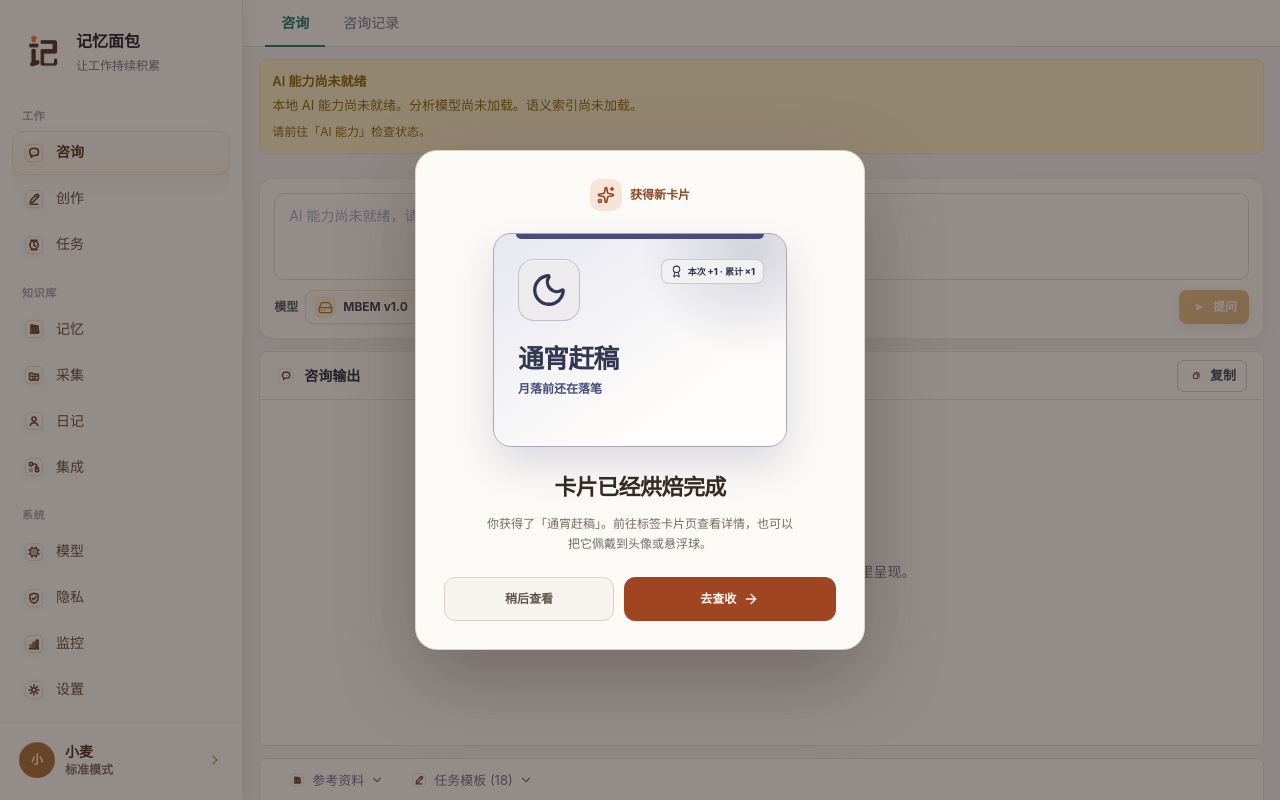
Test: App achievement celebration › celebrates on the main panel and opens the highlighted card collection
Expected: the dialog "卡片已经烘焙完成" is shown, x1=415 y1=150 x2=865 y2=650
Step 1. Click the button "去查收" → coordinates (730, 599), box x1=624 y1=577 x2=836 y2=621
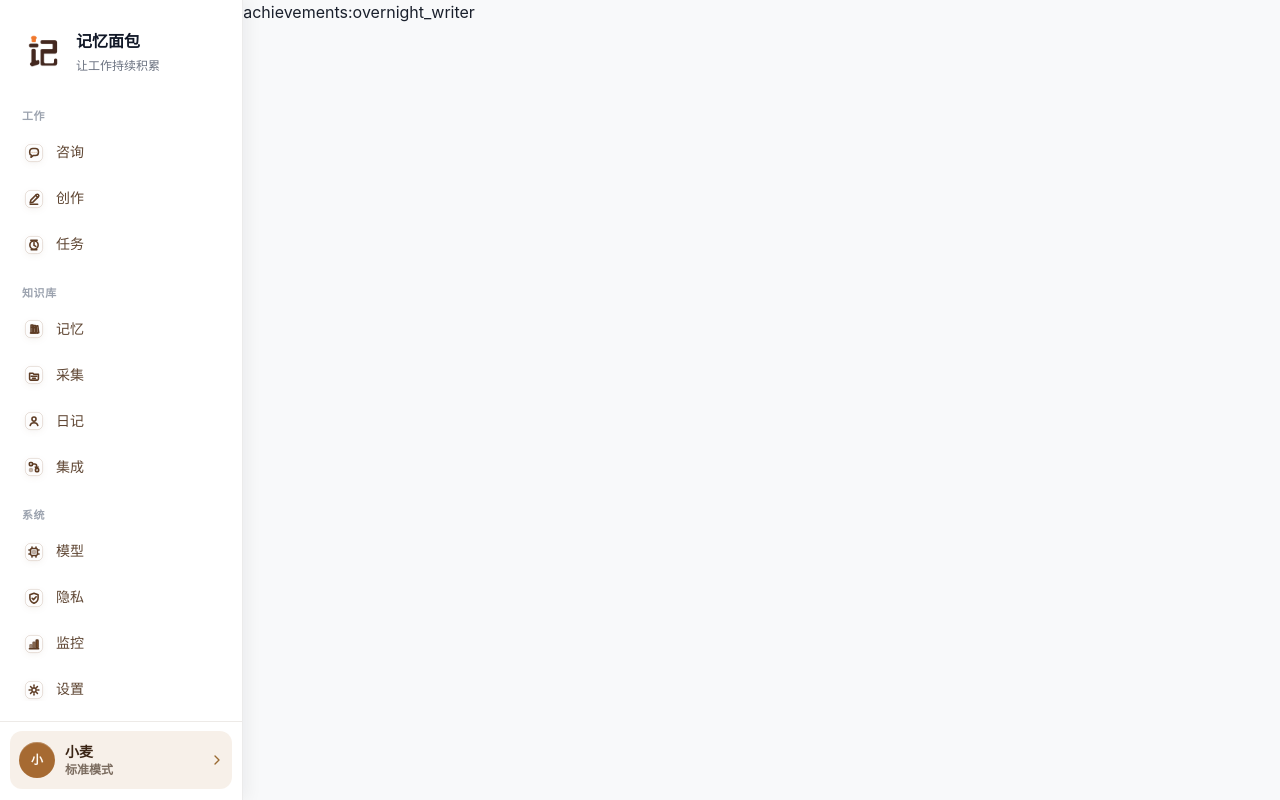
Expected: the text with test id "auth-panel-target" reads "achievements:overnight_writer", x1=243 y1=2 x2=475 y2=22
Expected: the element with test id "achievement-celebration" is gone
